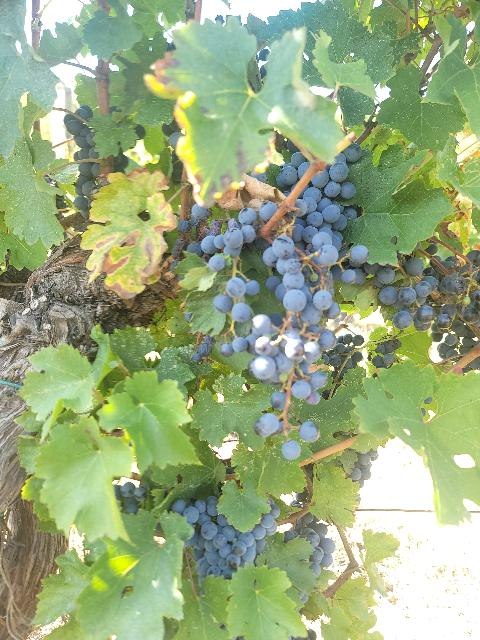grapes: (171, 496, 280, 586), (415, 250, 480, 360)
